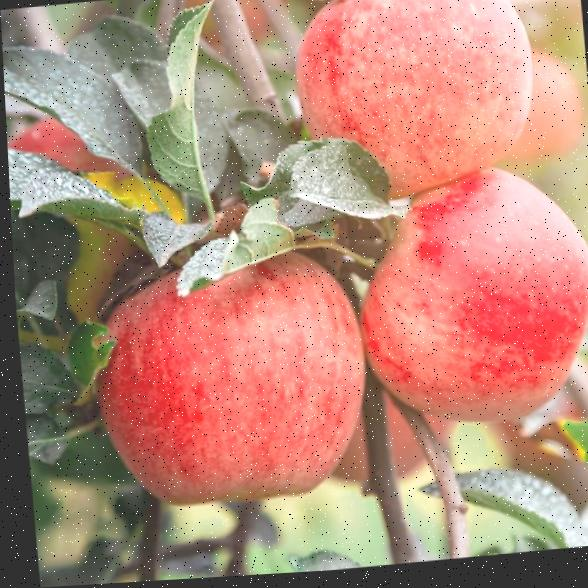HEALTHY: (67, 223, 386, 526), (325, 168, 588, 441), (289, 0, 570, 187)
